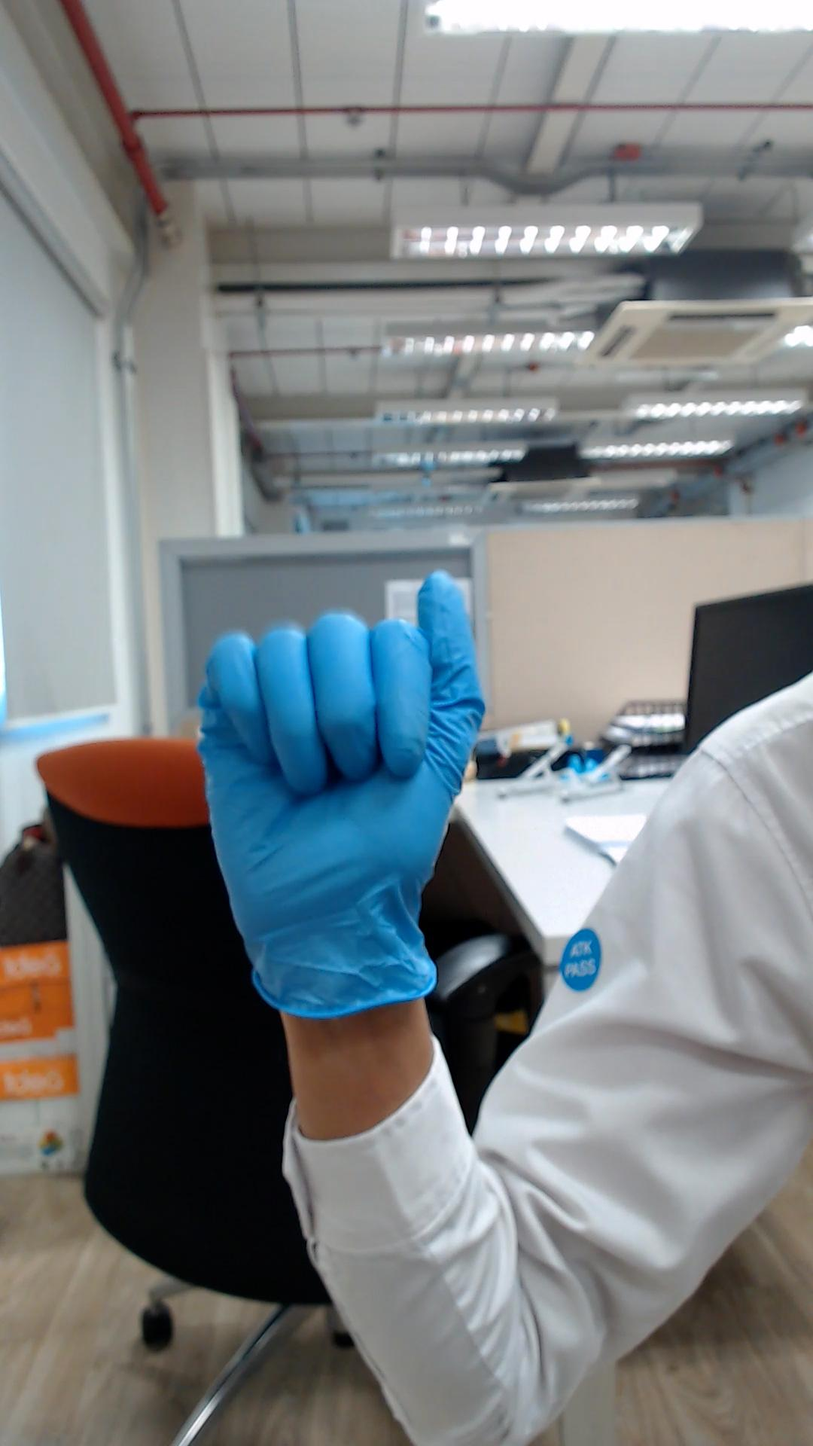gloves: (177, 543, 502, 916)
